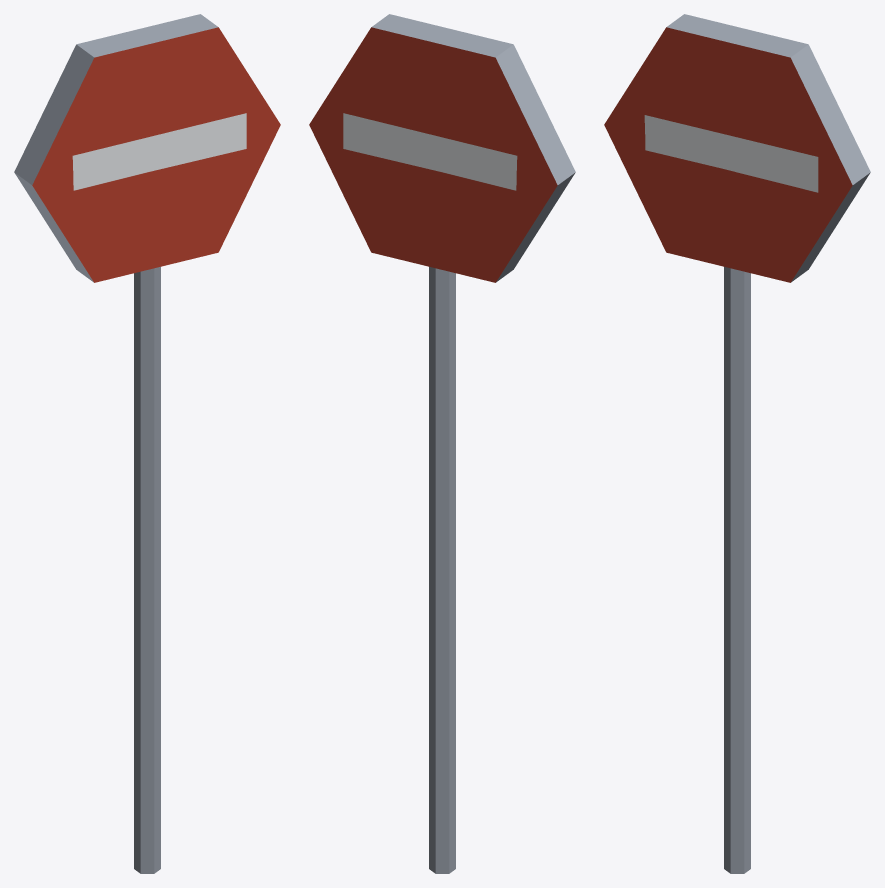
The model's file is Environment_Objects_Road_Sign_02.fbx.
3 renders of one model, left to right at view 1: azimuth 30°, elevation 25°; view 2: azimuth 150°, elevation 25°; view 3: azimuth 330°, elevation 25°, orthographic.
Visible parts, largest first — view 1: Environment_Objects_Road_Sign_02; view 2: Environment_Objects_Road_Sign_02; view 3: Environment_Objects_Road_Sign_02.
Boxes of the visible parts, left/top/right/bottom form: Environment_Objects_Road_Sign_02: left=14, top=14, right=280, bottom=873; Environment_Objects_Road_Sign_02: left=309, top=14, right=575, bottom=873; Environment_Objects_Road_Sign_02: left=604, top=14, right=870, bottom=873.
Bounding box in the file's own units: 84.12 × 269 × 10.62.
